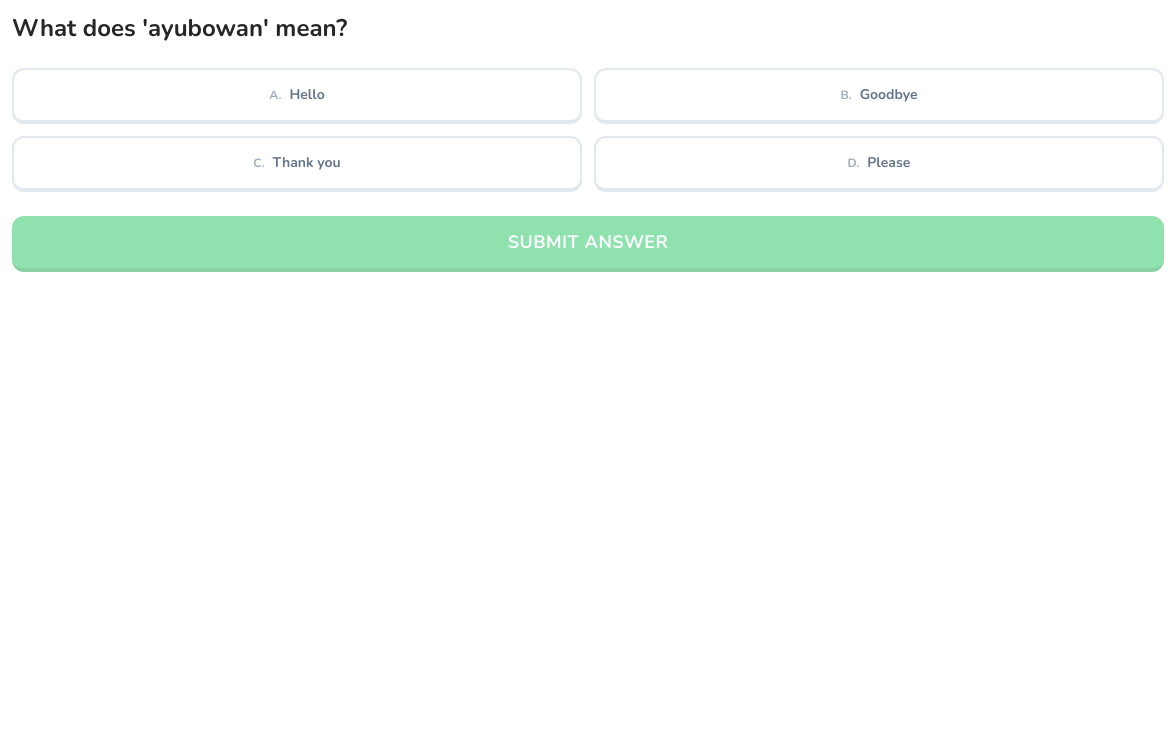
Test: QuizCard › MCQ questions › Got it button acknowledges explanation and enables next
The image size is (1176, 732).
Click the button "B. Goodbye" at point(879, 96), box [594,68,1164,124]
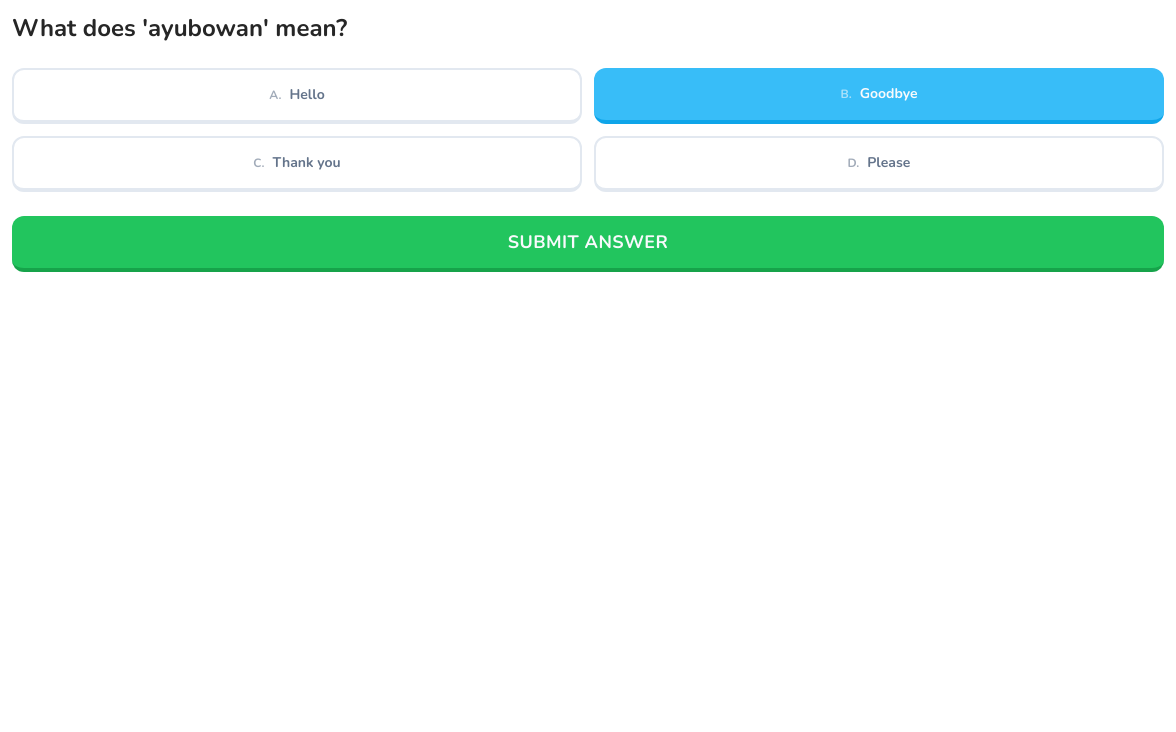
Click the button "Submit Answer" at point(588, 244), box [12,216,1164,272]
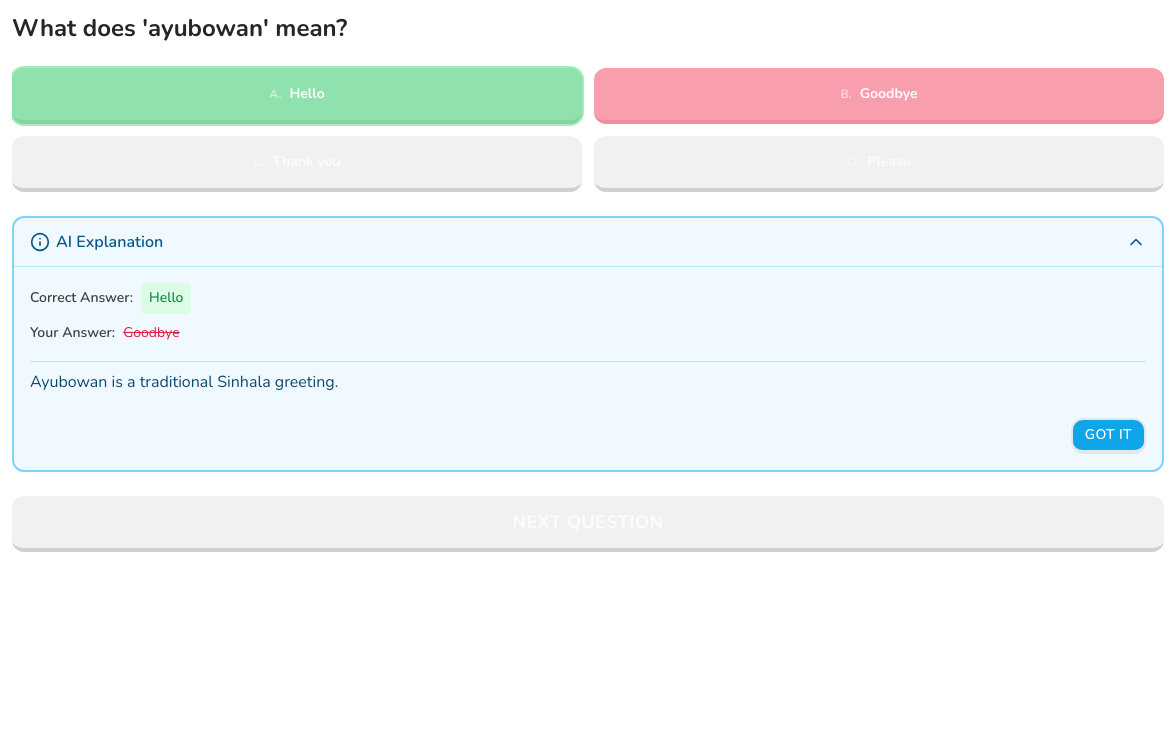
Now the button "Got it" is shown
Now the button "Next Question" is disabled, box [12,496,1164,552]
# Click Got it
Click the button "Got it" at point(1108, 436), box [1071,418,1146,454]
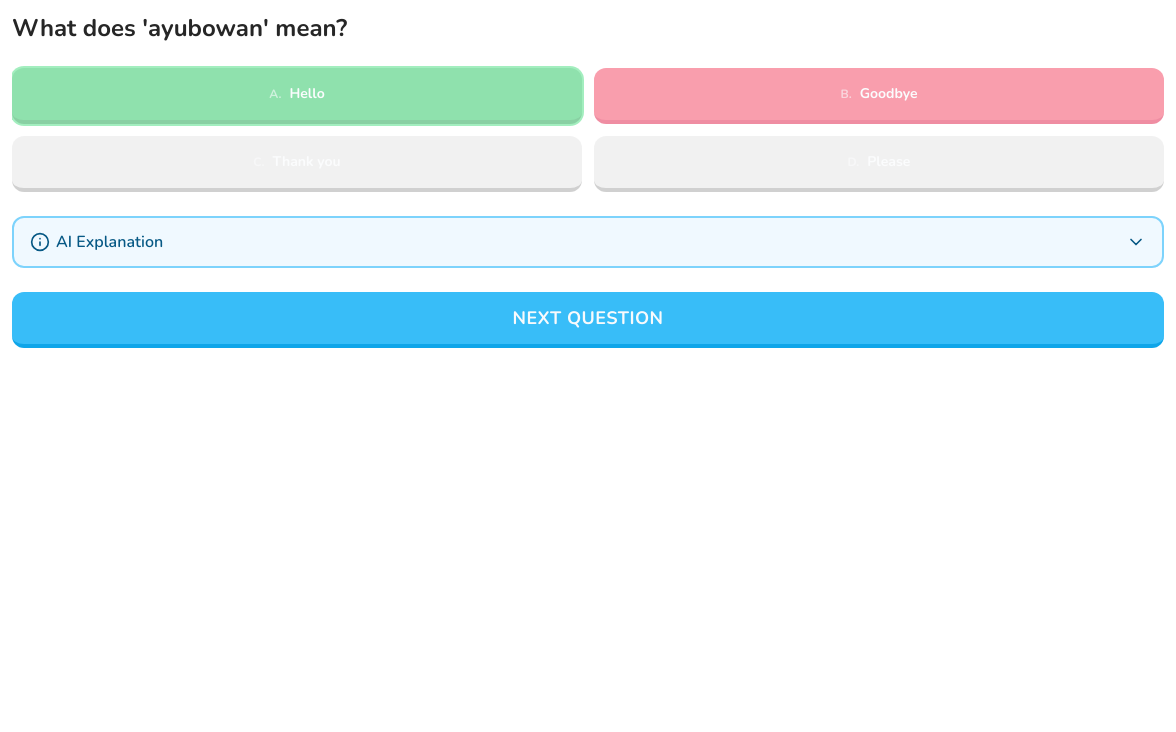
Now the button "Next Question" is enabled, box [12,292,1164,348]
